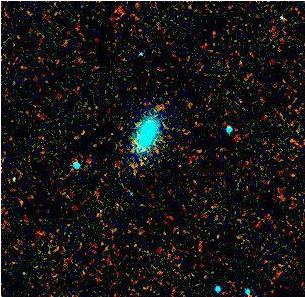star: (148, 92, 178, 122)
